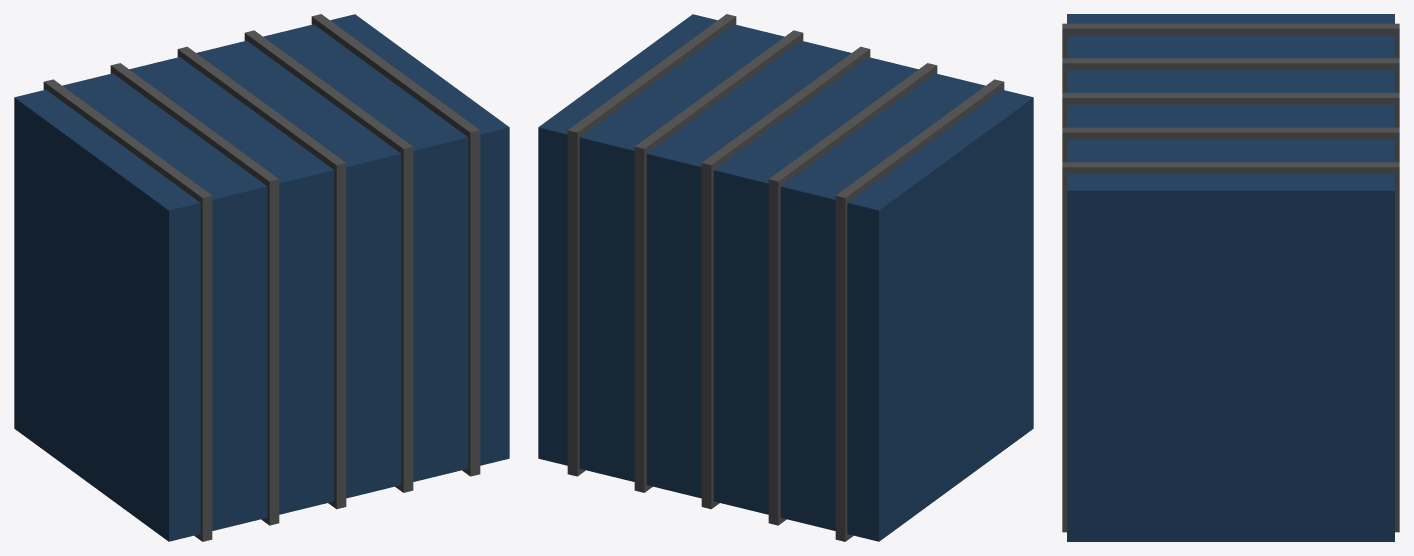
The model's file is office_mid_01.glb.
The picture shows the model from 3 angles, left to right: view 1: azimuth 30°, elevation 25°; view 2: azimuth 150°, elevation 25°; view 3: azimuth 270°, elevation 25°; orthographic projection. The views are drawn at different scales.
Bounding box in the file's own units: 28 × 27 × 22.6.
